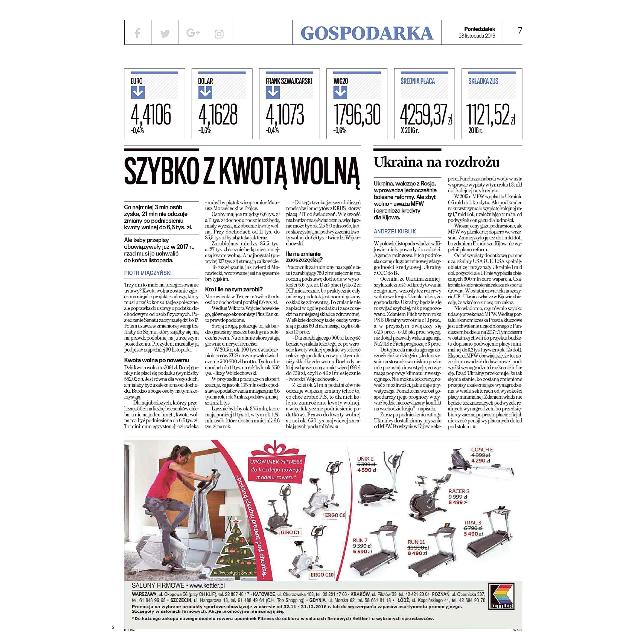article: (122, 144, 366, 434), (370, 144, 528, 434)
